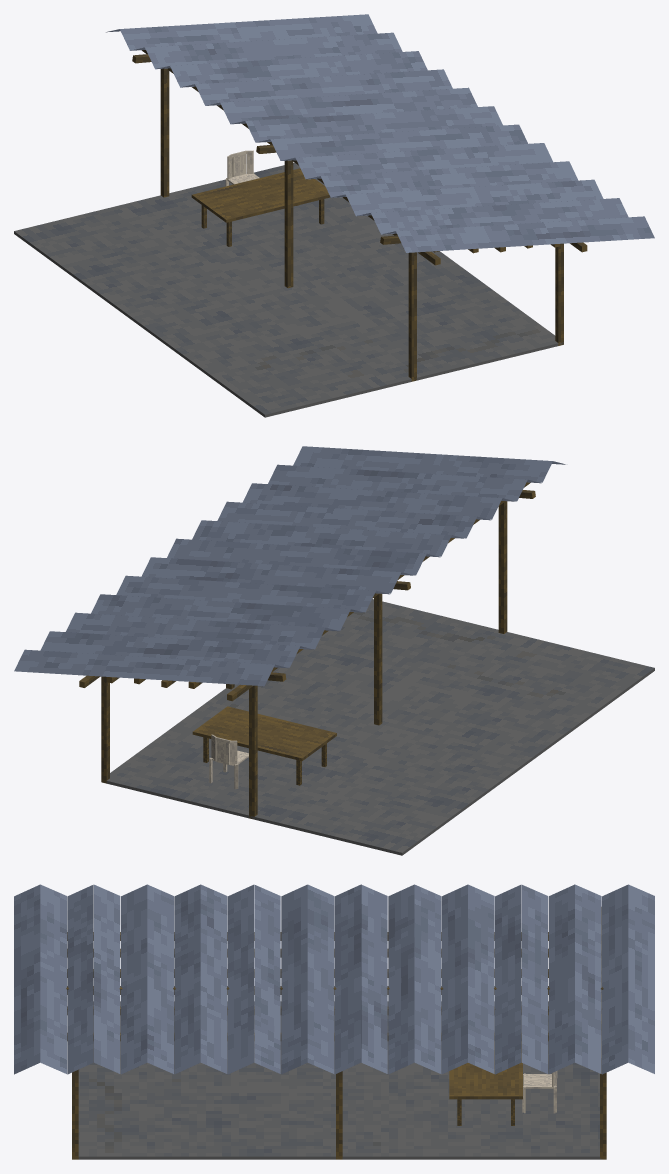
Rendered from Karinderya.gltf.
3 views of the same model, one above another, from view 1: azimuth 30°, elevation 25°; view 2: azimuth 150°, elevation 25°; view 3: azimuth 270°, elevation 25° (orthographic). The views are drawn at different scales.
Parts seen in each view (by area): view 1: cube (×18); view 2: cube (×18); view 3: cube (×30).
Boxes of the visible parts, x1,y1,x2,y2 form: cube (×18): (14, 14, 654, 417); cube (×18): (14, 446, 654, 855); cube (×30): (14, 884, 654, 1159).
Size of the model in its own units: 0.8392 by 0.3716 by 1.2.
5 materials, 5 textured.
